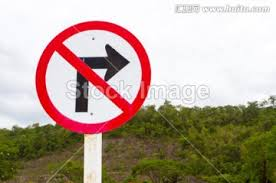No_right_turn: (35, 21, 151, 135)
